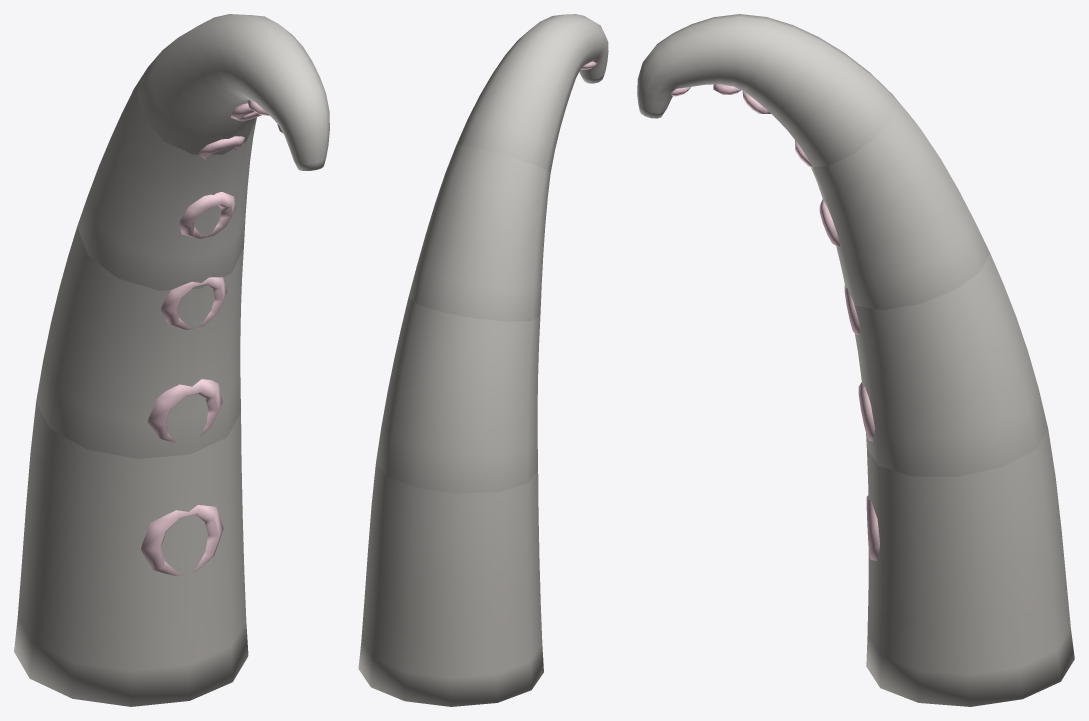
Rendered from part_tentacle.glb.
The picture shows the model from 3 angles, left to right: view 1: azimuth 30°, elevation 25°; view 2: azimuth 150°, elevation 25°; view 3: azimuth 270°, elevation 25°; orthographic projection. The views are drawn at different scales.
Visible parts, largest first — view 1: seg_0.003_painted_mesh, seg_1.003_painted_mesh, seg_2.003_painted_mesh, seg_3.003_painted_mesh; view 2: seg_0.003_painted_mesh, seg_1.003_painted_mesh, seg_2.003_painted_mesh, seg_3.003_painted_mesh; view 3: seg_0.003_painted_mesh, seg_1.003_painted_mesh, seg_2.003_painted_mesh, seg_3.003_painted_mesh.
Part boxes in pixels (x1,y1,x2,y2): seg_0.003_painted_mesh: (14,402,248,706); seg_1.003_painted_mesh: (36,227,243,458); seg_2.003_painted_mesh: (77,68,256,290); seg_3.003_painted_mesh: (137,14,329,170); seg_0.003_painted_mesh: (358,463,543,706); seg_1.003_painted_mesh: (376,297,540,493); seg_2.003_painted_mesh: (408,145,550,321); seg_3.003_painted_mesh: (456,14,608,172); seg_0.003_painted_mesh: (866,429,1074,706); seg_1.003_painted_mesh: (844,253,1047,476); seg_2.003_painted_mesh: (811,99,989,309); seg_3.003_painted_mesh: (637,14,898,168).
Bounding box in the file's own units: 0.32 × 1.1 × 0.6712.
